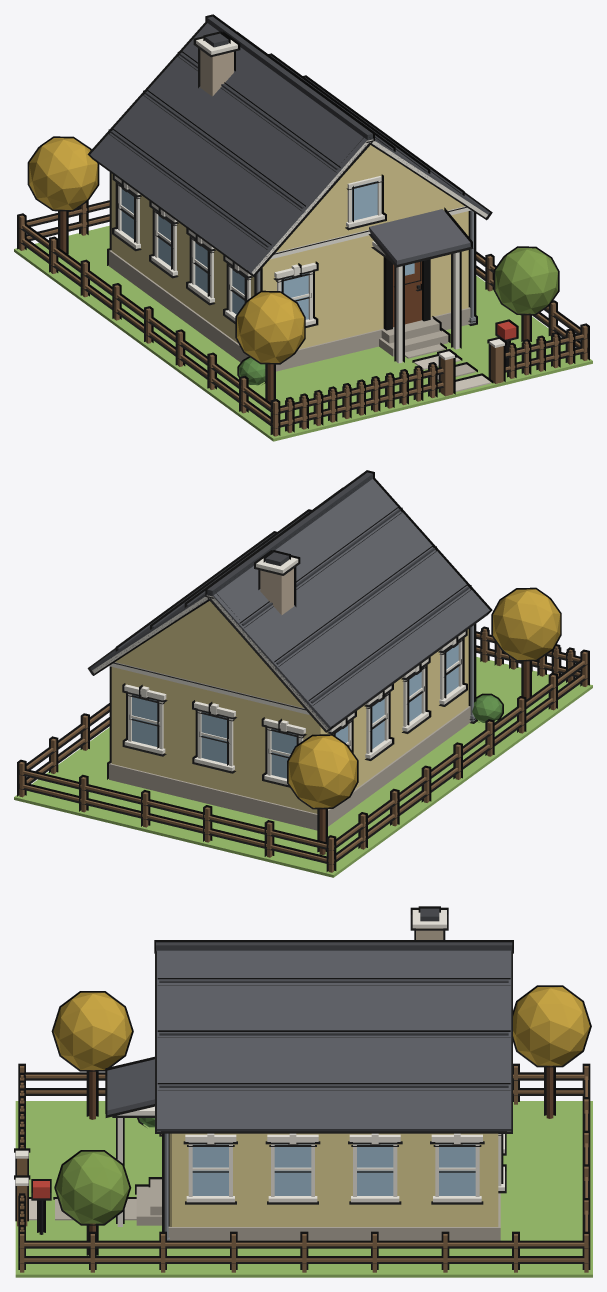
File: MustakilEv_avrupa_2_2.fbx
The picture shows the model from 3 angles, top to bottom: view 1: azimuth 30°, elevation 25°; view 2: azimuth 150°, elevation 25°; view 3: azimuth 270°, elevation 25°; orthographic projection. The views are drawn at different scales.
Parts seen in each view (by area): view 1: MustakilEv_avrupa_2_2; view 2: MustakilEv_avrupa_2_2; view 3: MustakilEv_avrupa_2_2.
Boxes of the visible parts, x1,y1,x2,y2 form: MustakilEv_avrupa_2_2: (14,14,592,441); MustakilEv_avrupa_2_2: (14,470,592,877); MustakilEv_avrupa_2_2: (14,906,592,1277).
Size of the model in its own units: 9.63 by 6.77 by 13.48.
